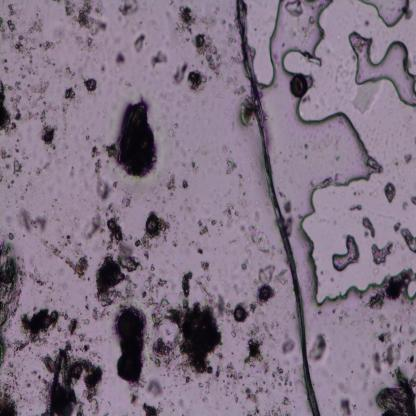Air bubble: (283, 98, 384, 216), (262, 0, 330, 99), (344, 30, 416, 106), (359, 0, 413, 26), (332, 233, 360, 273), (370, 240, 393, 266), (400, 226, 416, 254), (383, 180, 396, 205), (361, 216, 375, 237), (406, 278, 416, 303)
Background material: (166, 294, 227, 400), (103, 102, 157, 182), (104, 200, 142, 272), (41, 229, 91, 277), (0, 236, 26, 325), (0, 1, 36, 64), (142, 331, 182, 380), (244, 316, 280, 370), (373, 372, 416, 416), (0, 363, 35, 416), (93, 249, 124, 305), (64, 0, 110, 34), (81, 356, 106, 416), (19, 302, 53, 346), (196, 33, 228, 77), (90, 143, 114, 197), (27, 80, 57, 122), (220, 356, 250, 397), (140, 290, 168, 332), (352, 79, 383, 111), (141, 258, 167, 295), (183, 67, 213, 98), (0, 77, 15, 138), (79, 209, 108, 240), (373, 341, 402, 372), (208, 295, 236, 324), (173, 8, 194, 44), (194, 6, 223, 32), (196, 276, 221, 303), (118, 278, 137, 313), (26, 264, 52, 289), (22, 212, 50, 234), (306, 327, 324, 361), (220, 199, 240, 227), (0, 322, 13, 365), (239, 221, 262, 245), (222, 75, 248, 96), (237, 98, 255, 128), (278, 332, 298, 359), (271, 365, 293, 389), (385, 272, 406, 297), (364, 288, 385, 313), (74, 35, 103, 53), (125, 376, 143, 404), (40, 123, 57, 151), (12, 94, 27, 125), (134, 232, 151, 259), (180, 272, 196, 300), (256, 264, 276, 286), (286, 0, 306, 22), (121, 0, 144, 19), (276, 188, 293, 213), (147, 52, 170, 70), (311, 175, 336, 191), (131, 30, 150, 51), (265, 401, 291, 416), (38, 36, 62, 52), (170, 62, 188, 83), (257, 233, 274, 255), (226, 23, 239, 50), (40, 52, 59, 70), (66, 317, 82, 338), (300, 15, 314, 39), (26, 18, 46, 34), (338, 397, 354, 416), (239, 182, 250, 209), (245, 300, 261, 318), (274, 268, 290, 286), (82, 76, 98, 94), (12, 338, 30, 354), (71, 352, 81, 380), (227, 319, 240, 340), (59, 89, 76, 105), (376, 330, 393, 346), (34, 160, 52, 175), (223, 157, 238, 175), (244, 401, 262, 416), (245, 387, 264, 401), (38, 381, 50, 402), (240, 247, 250, 272), (164, 171, 177, 190), (188, 155, 201, 174), (376, 314, 391, 330), (229, 52, 243, 69), (143, 404, 162, 416), (277, 247, 290, 264), (150, 380, 163, 397), (218, 269, 230, 287), (196, 218, 208, 236), (306, 0, 324, 12), (178, 198, 192, 212), (401, 8, 415, 22), (63, 68, 79, 80), (71, 342, 90, 352), (286, 216, 295, 237), (4, 214, 15, 231), (234, 282, 248, 295), (160, 220, 170, 238), (20, 148, 32, 162), (24, 64, 38, 76), (71, 388, 79, 408), (403, 353, 416, 365), (391, 311, 404, 323), (76, 399, 85, 416), (402, 150, 411, 167), (208, 212, 218, 227), (14, 157, 22, 175), (62, 339, 74, 351), (88, 350, 101, 361), (1, 146, 12, 159), (166, 214, 179, 225), (93, 304, 100, 324), (115, 52, 125, 66), (281, 393, 291, 407), (251, 281, 261, 295), (122, 193, 130, 210), (60, 306, 69, 321), (167, 402, 177, 415), (393, 216, 401, 232), (167, 124, 175, 140), (299, 93, 310, 104), (102, 307, 113, 318), (197, 145, 208, 156), (178, 398, 188, 410), (339, 311, 349, 323), (252, 208, 260, 223), (263, 358, 270, 375), (60, 104, 66, 123), (273, 52, 280, 68), (359, 356, 367, 370), (396, 322, 404, 336), (349, 204, 363, 212), (82, 293, 88, 310), (219, 146, 229, 156), (264, 196, 270, 212), (340, 381, 348, 393), (69, 165, 76, 178), (361, 18, 370, 28), (372, 265, 380, 276), (58, 69, 65, 81), (409, 194, 416, 206), (201, 262, 210, 271), (7, 178, 14, 189), (15, 79, 22, 90), (35, 410, 47, 416), (368, 397, 374, 408), (112, 181, 120, 189), (2, 65, 9, 74), (124, 80, 132, 87), (315, 310, 323, 317), (171, 240, 178, 248), (46, 285, 54, 292), (26, 183, 32, 192), (290, 312, 296, 321), (102, 64, 107, 74), (62, 284, 68, 292), (1, 58, 7, 66), (6, 164, 12, 172), (197, 247, 203, 255), (228, 240, 236, 246), (80, 333, 85, 342), (161, 195, 166, 204), (15, 143, 19, 154), (153, 242, 159, 249), (31, 370, 39, 375), (85, 318, 90, 326), (57, 324, 62, 332), (178, 162, 186, 167), (184, 180, 188, 190), (219, 221, 224, 229), (411, 339, 415, 348), (36, 375, 42, 381), (8, 83, 12, 92), (85, 134, 91, 140), (52, 342, 58, 348), (303, 154, 308, 161), (10, 234, 15, 241), (98, 334, 102, 342), (59, 294, 63, 302), (76, 306, 79, 316), (89, 338, 94, 344), (305, 143, 310, 149), (21, 74, 27, 79), (108, 400, 112, 407), (189, 241, 196, 245), (6, 40, 10, 47), (57, 282, 62, 287), (49, 298, 54, 303), (104, 411, 109, 416), (64, 145, 69, 150), (12, 352, 16, 358), (336, 156, 340, 162), (174, 123, 178, 129), (251, 160, 254, 168), (235, 394, 238, 402), (0, 175, 3, 183), (330, 276, 334, 282), (332, 308, 336, 314), (396, 160, 399, 167), (246, 216, 250, 221), (53, 198, 58, 202), (20, 196, 24, 201), (28, 170, 31, 176), (33, 307, 37, 311), (57, 218, 61, 222), (16, 140, 20, 144), (321, 270, 324, 275), (223, 20, 226, 25), (239, 173, 242, 178), (20, 65, 23, 70), (404, 204, 407, 209), (88, 276, 90, 283), (39, 290, 42, 294), (360, 294, 362, 300), (22, 234, 26, 237), (74, 218, 78, 221), (265, 390, 268, 394), (59, 207, 62, 211), (96, 336, 98, 341), (284, 43, 286, 48), (52, 282, 55, 285), (263, 381, 265, 385), (170, 194, 174, 196), (72, 305, 74, 309), (52, 205, 54, 208), (256, 383, 258, 386), (80, 312, 82, 315), (77, 194, 79, 196)
Cotton: (237, 0, 321, 416)
Diatom: (47, 346, 72, 416), (116, 310, 142, 342), (117, 353, 144, 381), (120, 332, 142, 357), (292, 73, 308, 100), (145, 213, 161, 237), (42, 355, 54, 375), (258, 284, 272, 301), (234, 305, 246, 323), (49, 310, 59, 322)
